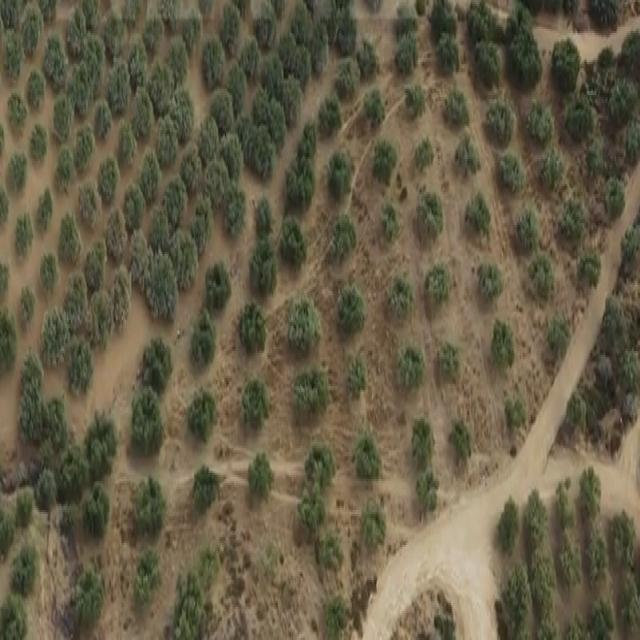trees: (171, 538, 227, 640), (66, 30, 106, 114), (283, 115, 316, 212), (182, 379, 225, 451), (507, 0, 544, 82), (389, 330, 429, 404), (128, 544, 169, 615), (292, 354, 334, 423), (128, 384, 170, 452), (242, 441, 282, 511), (234, 368, 273, 439), (495, 563, 532, 636), (144, 251, 178, 329), (70, 554, 104, 631), (236, 295, 272, 367), (333, 273, 372, 339), (342, 341, 375, 417), (234, 119, 274, 181), (280, 289, 324, 345), (126, 473, 167, 532), (358, 501, 394, 568), (45, 374, 70, 469), (17, 345, 44, 430), (534, 546, 560, 634), (382, 266, 416, 332), (79, 476, 114, 540), (190, 456, 222, 526), (352, 427, 387, 491), (294, 441, 341, 488), (187, 303, 219, 372), (483, 315, 518, 378), (86, 405, 118, 473), (135, 326, 168, 391), (324, 202, 358, 265), (411, 464, 443, 530), (495, 480, 522, 556), (280, 208, 312, 272), (451, 128, 481, 196), (222, 184, 256, 244), (203, 245, 232, 313), (448, 407, 477, 475), (392, 8, 422, 73), (551, 32, 585, 89), (294, 486, 329, 540), (66, 336, 94, 402), (248, 232, 276, 297), (608, 498, 636, 563), (423, 258, 452, 319), (485, 88, 516, 145), (474, 38, 504, 96), (216, 0, 245, 60), (1, 578, 29, 640), (189, 192, 217, 254), (584, 588, 618, 639), (522, 477, 547, 546), (461, 188, 491, 245), (415, 182, 445, 238), (85, 290, 114, 347), (408, 405, 436, 464), (58, 450, 89, 503), (32, 172, 56, 240), (52, 143, 76, 211), (524, 98, 554, 152), (201, 29, 228, 89), (57, 204, 82, 268), (323, 0, 355, 50), (14, 533, 41, 592), (60, 267, 88, 323), (530, 249, 558, 305), (41, 303, 68, 361), (572, 465, 602, 517), (537, 141, 567, 192), (584, 522, 608, 585), (322, 593, 356, 637), (565, 371, 587, 439), (556, 532, 582, 589), (44, 27, 66, 94), (110, 265, 134, 326), (401, 76, 427, 132), (596, 287, 622, 343), (499, 148, 528, 198), (129, 80, 154, 138), (516, 194, 540, 254), (607, 74, 639, 119), (371, 125, 398, 178), (151, 111, 177, 166), (306, 15, 328, 80), (502, 384, 523, 452), (466, 0, 498, 44), (107, 62, 130, 122), (328, 139, 356, 188), (11, 206, 35, 263), (553, 472, 576, 531), (546, 304, 571, 358), (18, 0, 41, 58), (438, 335, 463, 388), (53, 91, 80, 140), (316, 528, 346, 572), (557, 189, 582, 241), (203, 152, 230, 200), (618, 342, 640, 400), (217, 132, 243, 181), (137, 145, 161, 197), (0, 304, 18, 373), (409, 131, 434, 180), (127, 32, 148, 90), (436, 31, 464, 74), (78, 178, 102, 228), (170, 80, 193, 132), (106, 203, 126, 262), (360, 84, 388, 126), (172, 233, 195, 284), (377, 193, 399, 246), (7, 146, 30, 196), (478, 256, 503, 302), (121, 180, 145, 227), (620, 214, 640, 270), (429, 0, 460, 36), (74, 126, 98, 172), (566, 100, 591, 144), (162, 181, 188, 223), (129, 232, 153, 277), (177, 139, 199, 188), (36, 248, 60, 292), (148, 60, 172, 104), (619, 564, 639, 616), (26, 64, 46, 116), (98, 15, 124, 55), (577, 238, 605, 275), (207, 82, 231, 125), (85, 238, 106, 287), (606, 171, 626, 222), (441, 84, 469, 120), (147, 202, 171, 244), (594, 348, 614, 398), (1, 30, 23, 75), (34, 462, 55, 509), (290, 1, 314, 42), (6, 84, 26, 133), (92, 95, 112, 144), (584, 136, 606, 180), (224, 63, 245, 109), (261, 50, 284, 92), (100, 152, 119, 202), (357, 31, 380, 72), (17, 284, 37, 331), (168, 36, 188, 83), (0, 498, 13, 570), (62, 1, 83, 45), (318, 95, 341, 135), (241, 32, 261, 78), (30, 120, 51, 162), (157, 0, 180, 37), (180, 4, 200, 46), (197, 119, 217, 161), (255, 0, 275, 41), (282, 76, 303, 115), (254, 189, 273, 232), (333, 54, 355, 91), (13, 486, 33, 526), (292, 47, 311, 87), (119, 118, 138, 157), (280, 27, 298, 68), (143, 11, 160, 53), (267, 101, 284, 143), (626, 116, 640, 166), (251, 82, 266, 124), (0, 247, 13, 293), (79, 0, 100, 25), (0, 177, 9, 219)
